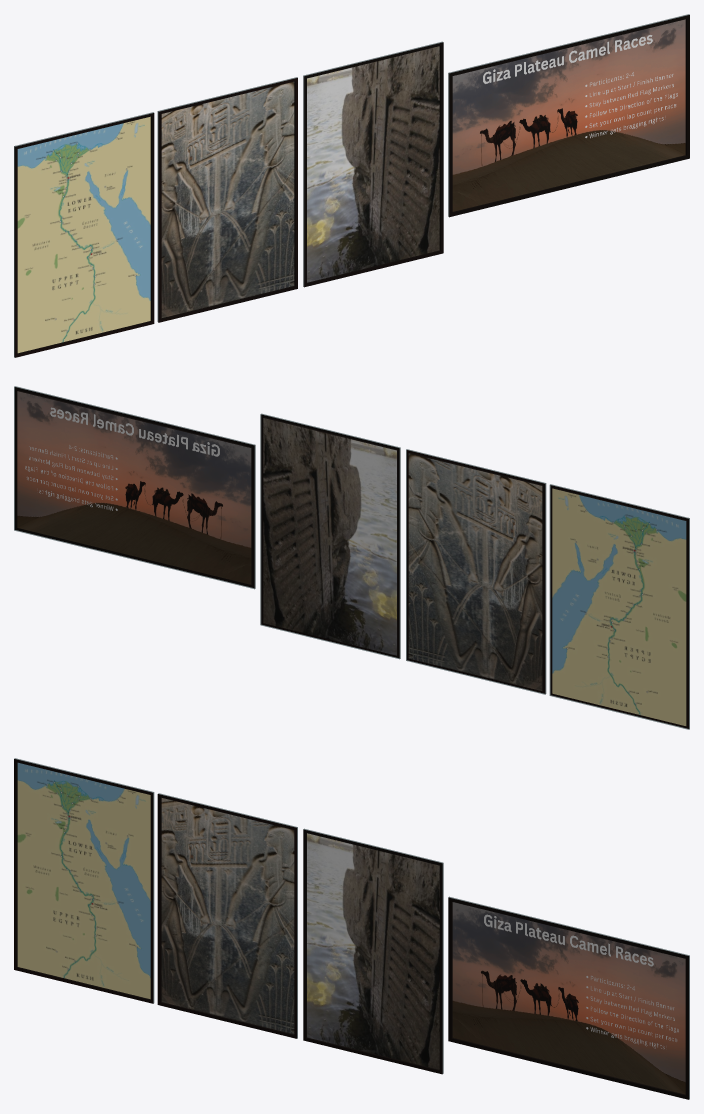
The model's file is Photo set2.fbx.
3 views of the same model, one above another, from view 1: azimuth 30°, elevation 25°; view 2: azimuth 150°, elevation 25°; view 3: azimuth 330°, elevation 25° (orthographic).
Parts seen in each view (by area): view 1: Plane.012, Plane.009, Plane.010, Plane.011; view 2: Plane.012, Plane.009, Plane.010, Plane.011; view 3: Plane.012, Plane.009, Plane.010, Plane.011.
Part boxes in pixels (x1,y1,x2,y2): Plane.012: [448, 14, 689, 217]; Plane.009: [303, 41, 443, 287]; Plane.010: [157, 77, 297, 322]; Plane.011: [14, 112, 154, 357]; Plane.012: [14, 386, 255, 589]; Plane.009: [260, 413, 400, 659]; Plane.010: [406, 449, 546, 694]; Plane.011: [549, 484, 689, 729]; Plane.012: [448, 896, 689, 1099]; Plane.009: [303, 828, 443, 1074]; Plane.010: [157, 793, 297, 1038]; Plane.011: [14, 758, 154, 1003].
Size of the model in its own units: 669 by 200 by 1.71.
